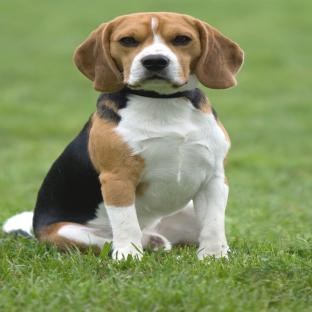Animal: (4, 12, 243, 260)
